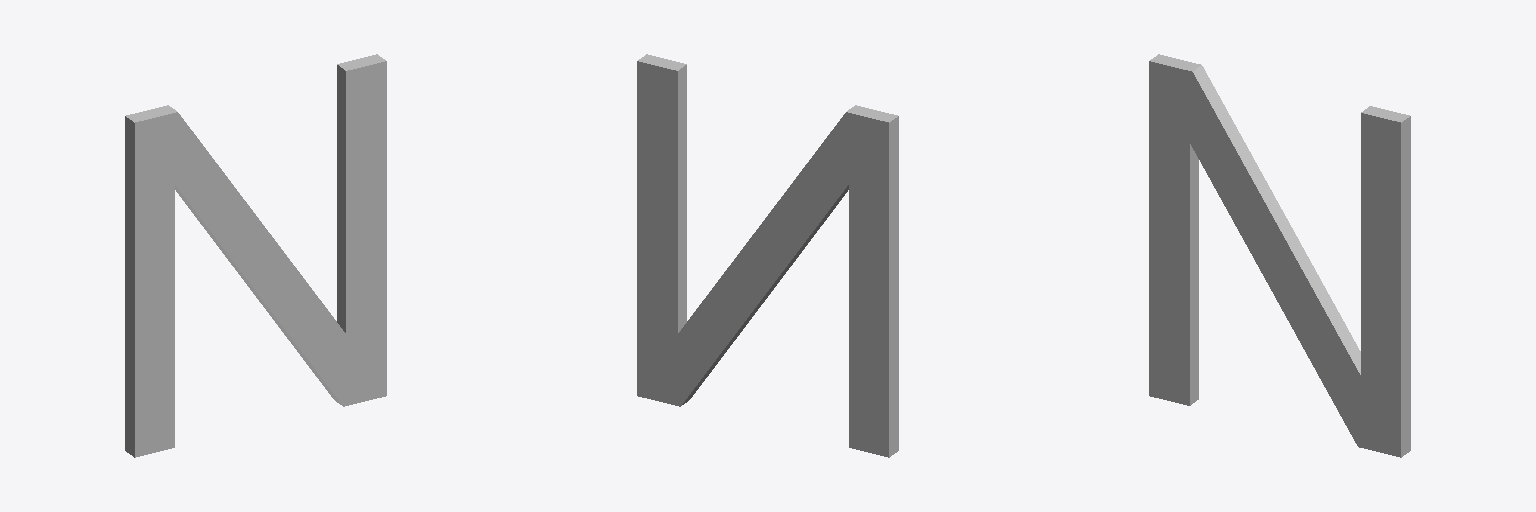
The model's file is original-66.obj.
3 renders of one model, left to right at view 1: azimuth 30°, elevation 25°; view 2: azimuth 150°, elevation 25°; view 3: azimuth 330°, elevation 25°, orthographic.
Visible parts, largest first — view 1: mesh91/mesh91-geometry#mesh91-geometry; view 2: mesh91/mesh91-geometry#mesh91-geometry; view 3: mesh91/mesh91-geometry#mesh91-geometry.
Boxes of the visible parts, x1,y1,x2,y2 form: mesh91/mesh91-geometry#mesh91-geometry: [125, 54, 386, 457]; mesh91/mesh91-geometry#mesh91-geometry: [637, 54, 898, 457]; mesh91/mesh91-geometry#mesh91-geometry: [1149, 54, 1410, 457].
Size of the model in its own units: 0.0174 by 0.0221 by 0.0011.